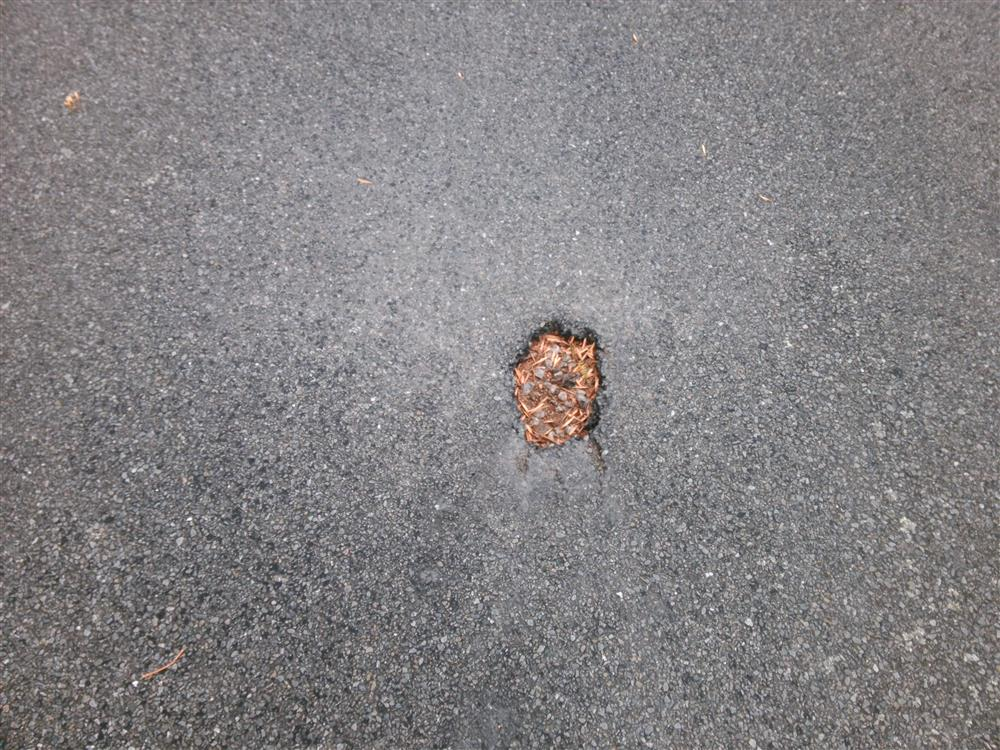pothole: (502, 312, 605, 454)
